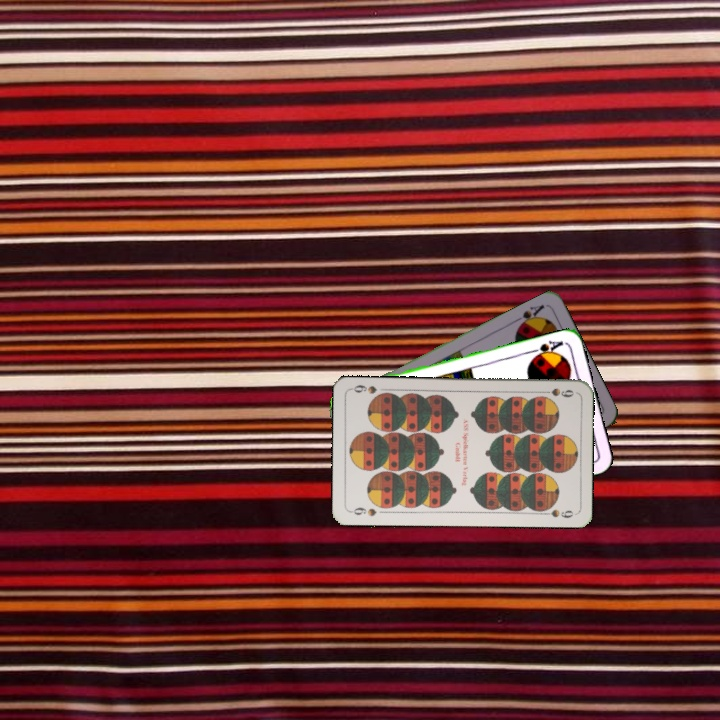S9: (536, 384, 576, 400), (347, 503, 379, 519)
SA: (510, 301, 547, 331), (527, 336, 566, 361)
